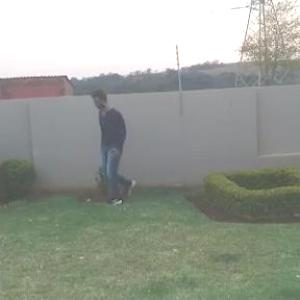follow: (100, 91, 132, 199)
